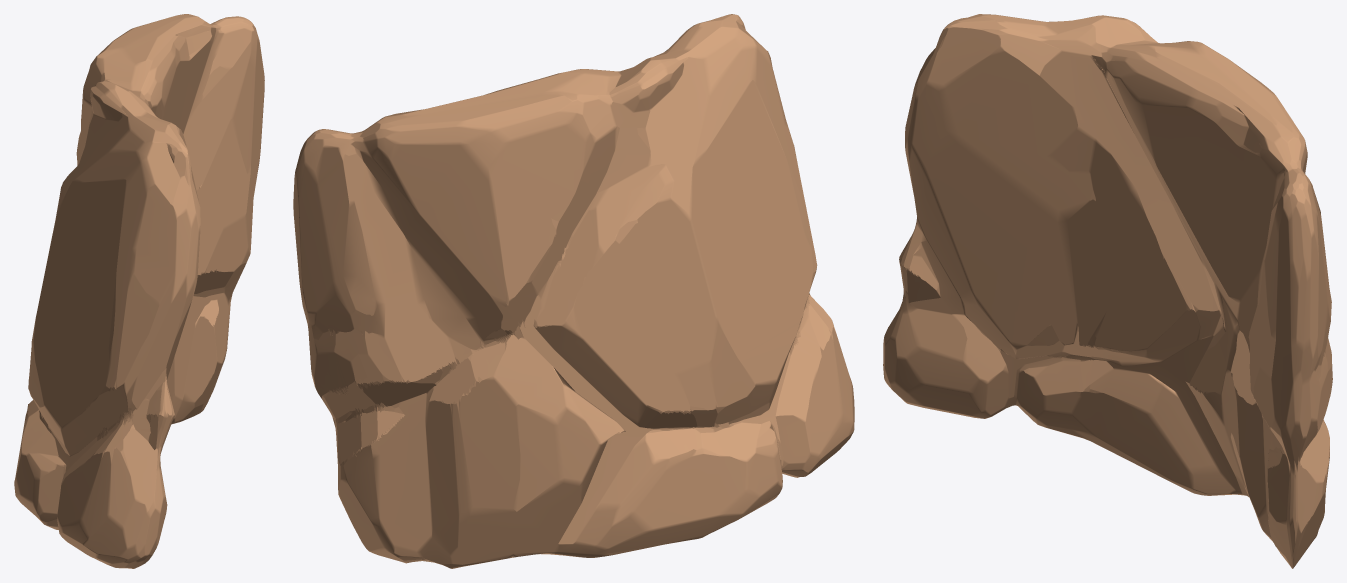
3 renders of one model, left to right at view 1: azimuth 30°, elevation 25°; view 2: azimuth 150°, elevation 25°; view 3: azimuth 270°, elevation 25°, orthographic. The views are drawn at different scales.
Visible parts, largest first — view 1: Mesh_89_LOD0; view 2: Mesh_89_LOD0; view 3: Mesh_89_LOD0.
Boxes of the visible parts, x1=… form: Mesh_89_LOD0: x1=14, y1=14, x2=264, y2=568; Mesh_89_LOD0: x1=293, y1=14, x2=854, y2=568; Mesh_89_LOD0: x1=883, y1=14, x2=1332, y2=568.
Size of what is drawn, in the model's own units: 1415 by 1697 by 1496.
